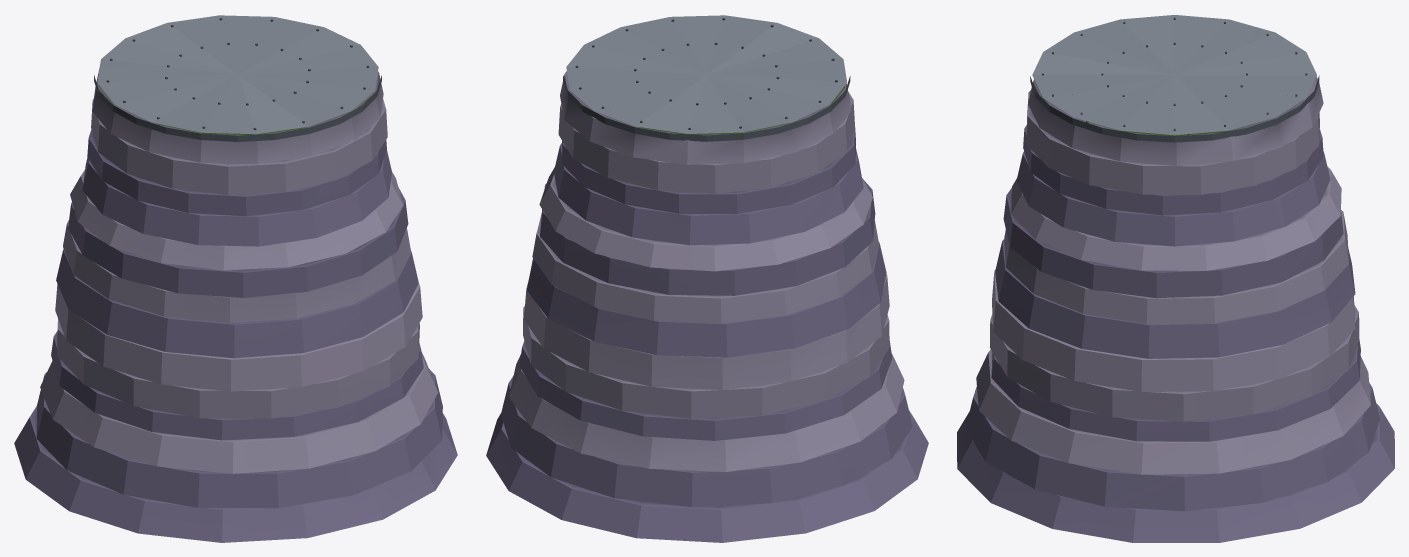
Rendered from g_drum.glb.
The picture shows the model from 3 angles, left to right: view 1: azimuth 30°, elevation 25°; view 2: azimuth 150°, elevation 25°; view 3: azimuth 270°, elevation 25°; orthographic projection.
Visible parts, largest first — view 1: g_drum; view 2: g_drum; view 3: g_drum.
Boxes of the visible parts, <box> form: g_drum: <box>14,15,457,542</box>; g_drum: <box>486,15,928,542</box>; g_drum: <box>957,15,1394,542</box>.
Size of the model in its own units: 15.31 by 14.56 by 15.31.
